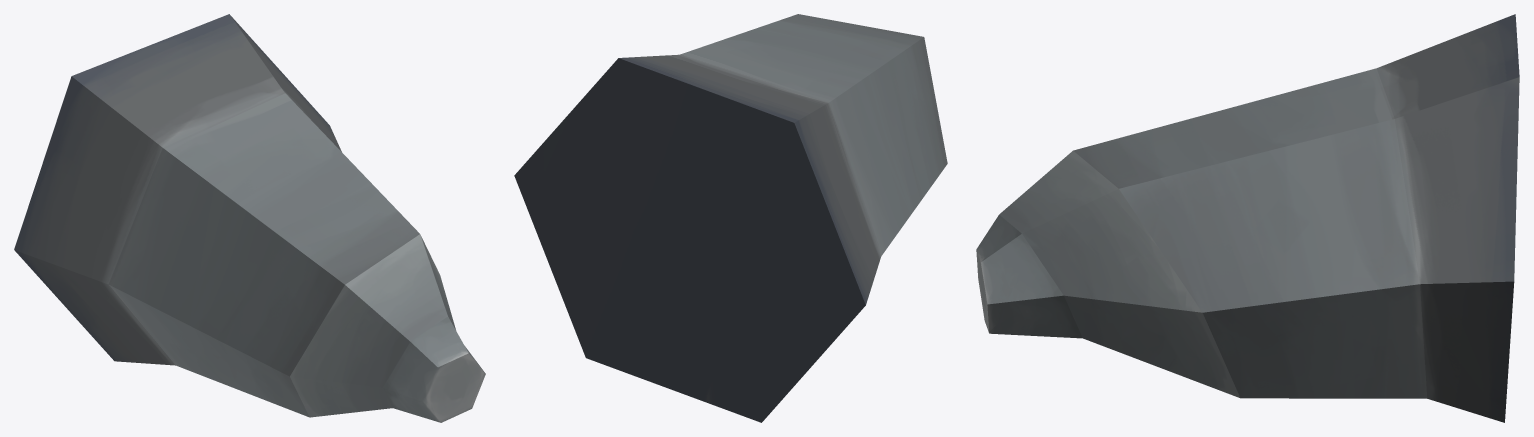
The model's file is Rock3.fbx.
The picture shows the model from 3 angles, left to right: view 1: azimuth 30°, elevation 25°; view 2: azimuth 150°, elevation 25°; view 3: azimuth 270°, elevation 25°; orthographic projection. The views are drawn at different scales.
Parts seen in each view (by area): view 1: Rock3; view 2: Rock3; view 3: Rock3.
Boxes of the visible parts, box(x1,y1,x2,y2) form: Rock3: box(14, 14, 485, 422); Rock3: box(514, 14, 947, 422); Rock3: box(976, 14, 1519, 422).
Bounding box in the file's own units: 288 × 268 × 376.
1 material, 1 textured.
